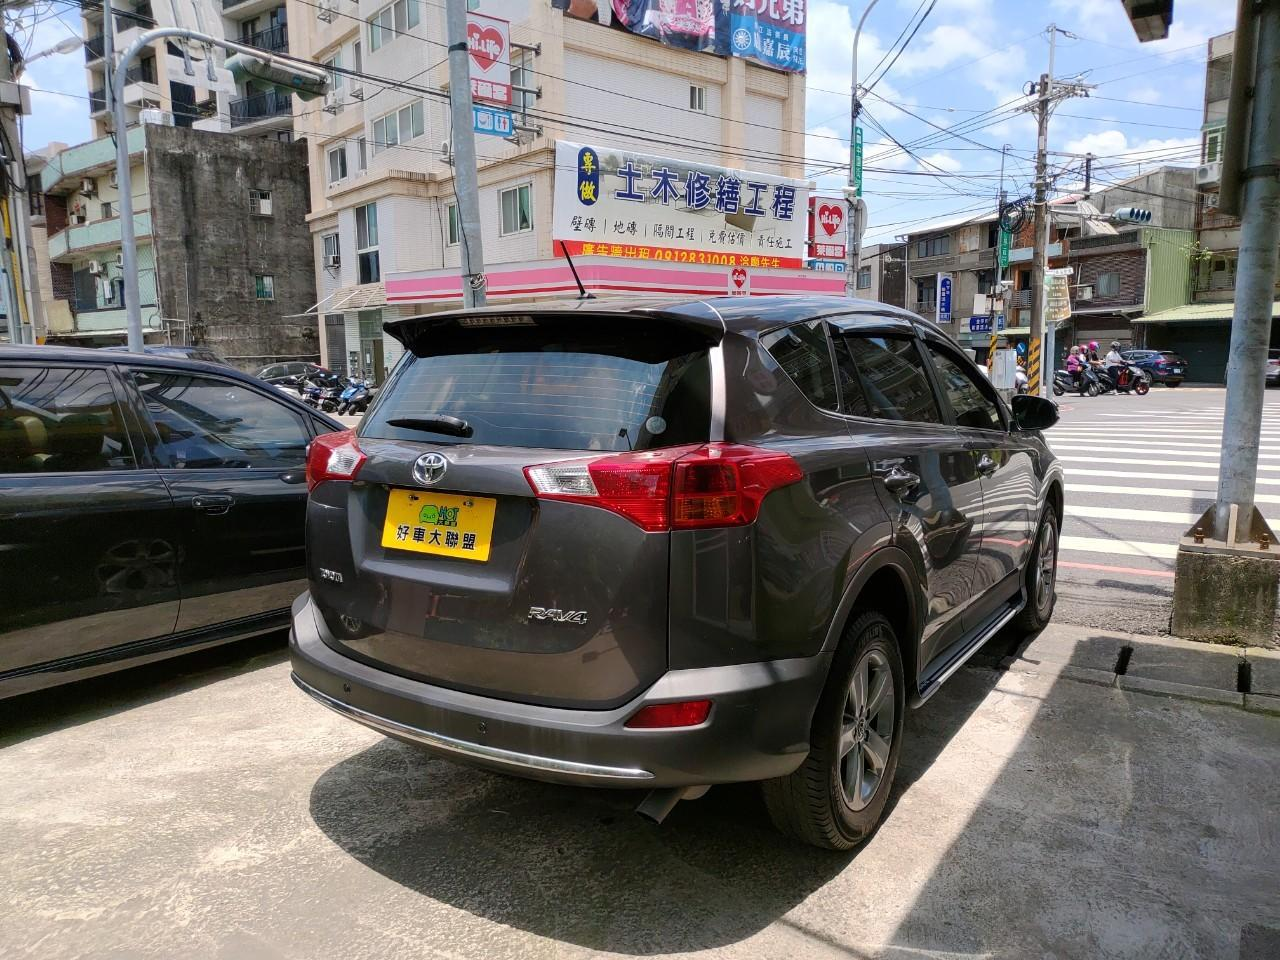toyota_rav4: (297, 305, 798, 807)
